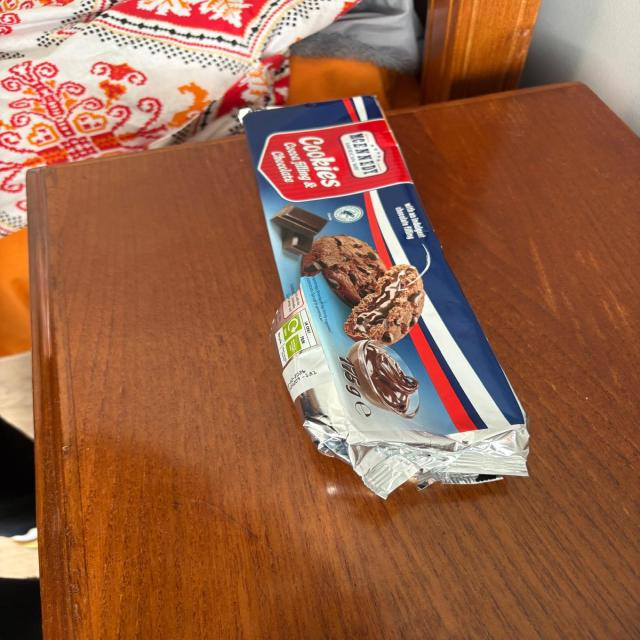damaged_package: (239, 91, 531, 498)
